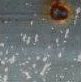Corrosion: (47, 1, 73, 24)
